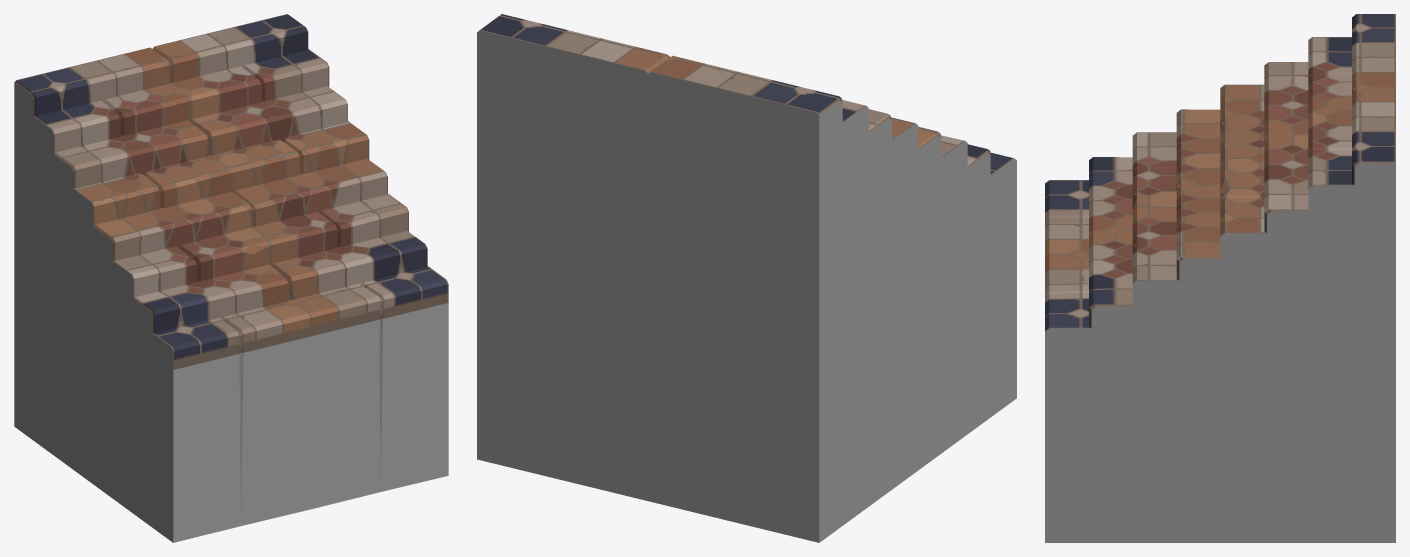
The model's file is SM_Bld_Stairs_03.fbx.
The picture shows the model from 3 angles, left to right: view 1: azimuth 30°, elevation 25°; view 2: azimuth 150°, elevation 25°; view 3: azimuth 270°, elevation 25°; orthographic projection. The views are drawn at different scales.
Parts seen in each view (by area): view 1: SM_Bld_Stairs_03; view 2: SM_Bld_Stairs_03; view 3: SM_Bld_Stairs_03.
Boxes of the visible parts, left/top/right/bottom form: SM_Bld_Stairs_03: left=14, top=14, right=448, bottom=542; SM_Bld_Stairs_03: left=477, top=14, right=1016, bottom=542; SM_Bld_Stairs_03: left=1045, top=14, right=1395, bottom=542.
Bounding box in the file's own units: 250 × 300 × 250.
